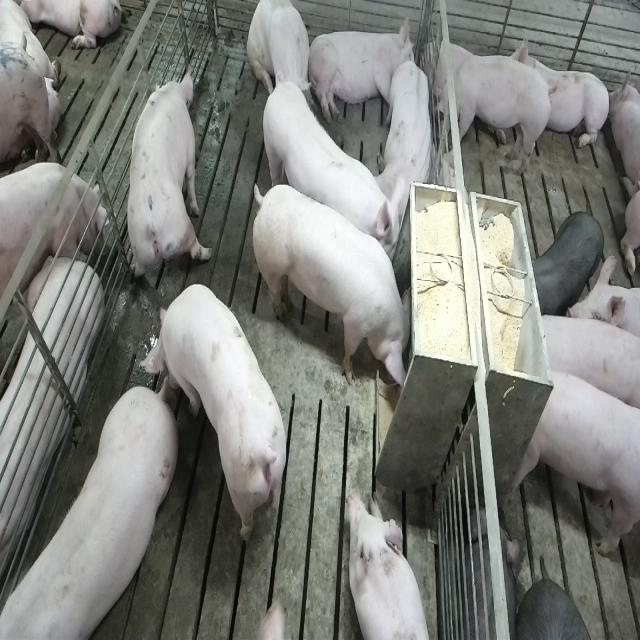Feeding: (255, 177, 420, 401)
Lateral_lying: (0, 222, 103, 592), (307, 16, 415, 128)
Sitting: (247, 1, 315, 115)
Standing: (0, 383, 174, 640), (144, 286, 292, 550), (506, 368, 638, 566), (258, 78, 391, 262), (125, 65, 210, 292), (428, 52, 554, 182), (0, 161, 106, 308), (528, 308, 637, 419), (527, 207, 603, 316)
Sternal_lying: (347, 487, 431, 640), (512, 32, 610, 153), (378, 53, 437, 235)
